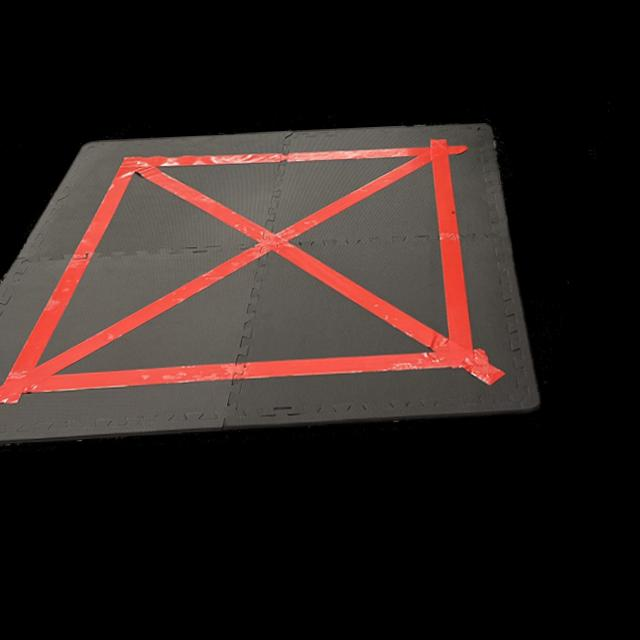landingPads: (0, 124, 609, 449)
